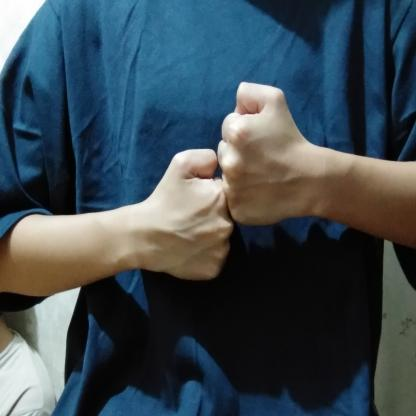brother: (123, 71, 341, 296)
